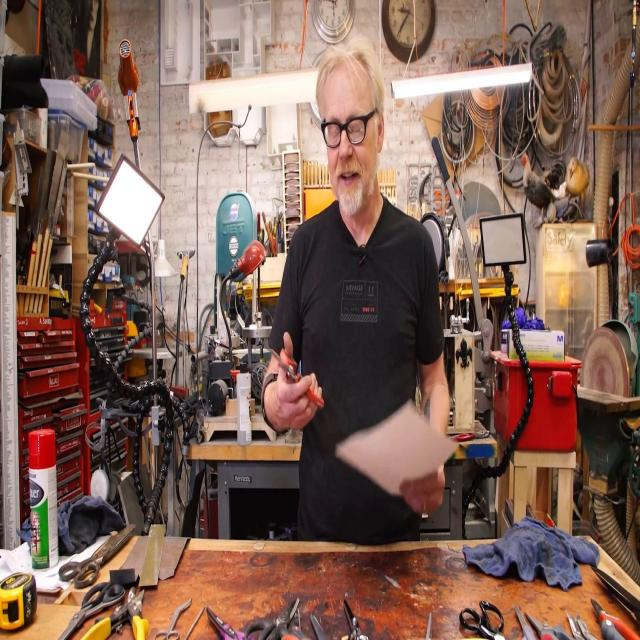scissor: (58, 525, 136, 589), (270, 349, 324, 407), (245, 598, 299, 640), (458, 602, 502, 640), (345, 600, 368, 640)
